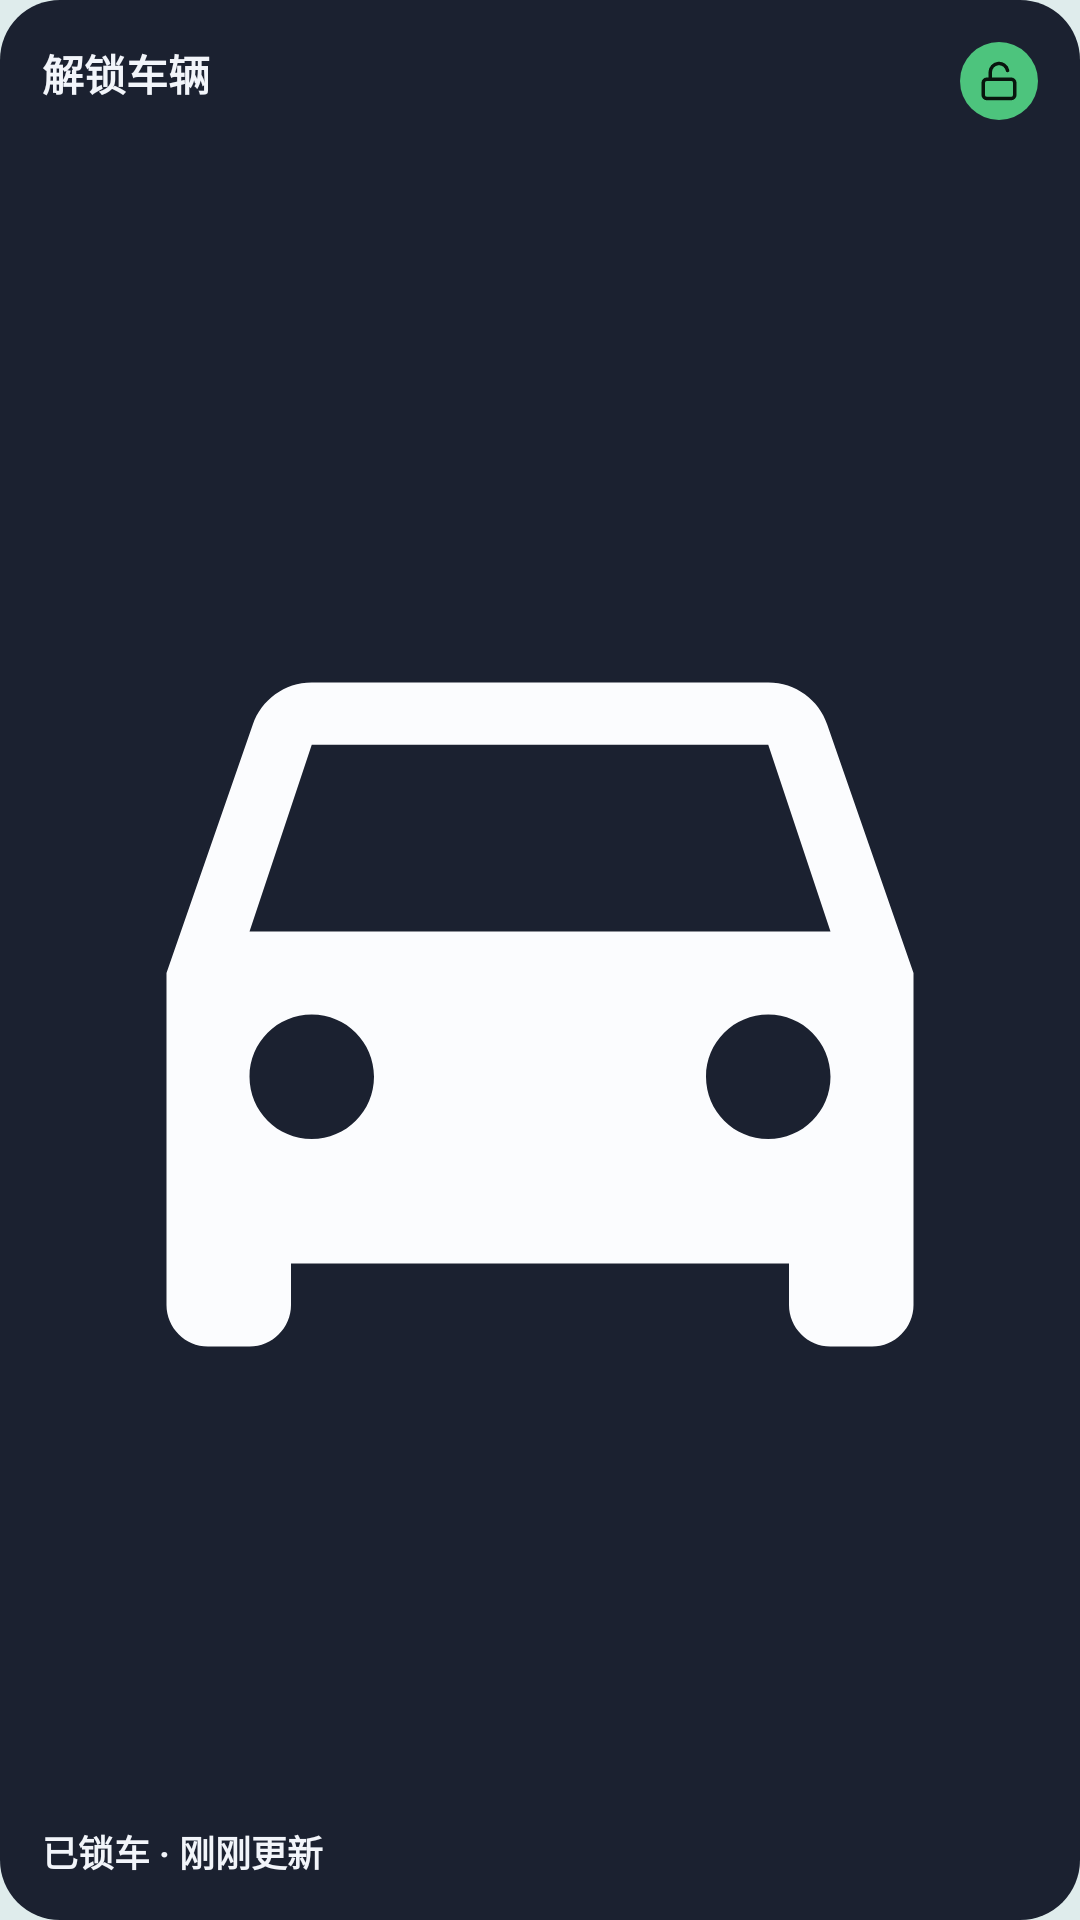

Screen size 1080 x 1920. Icon name, then its box in pixels as (x1, y1, x2, y2):
widget lock open: (960, 42, 1038, 120)
